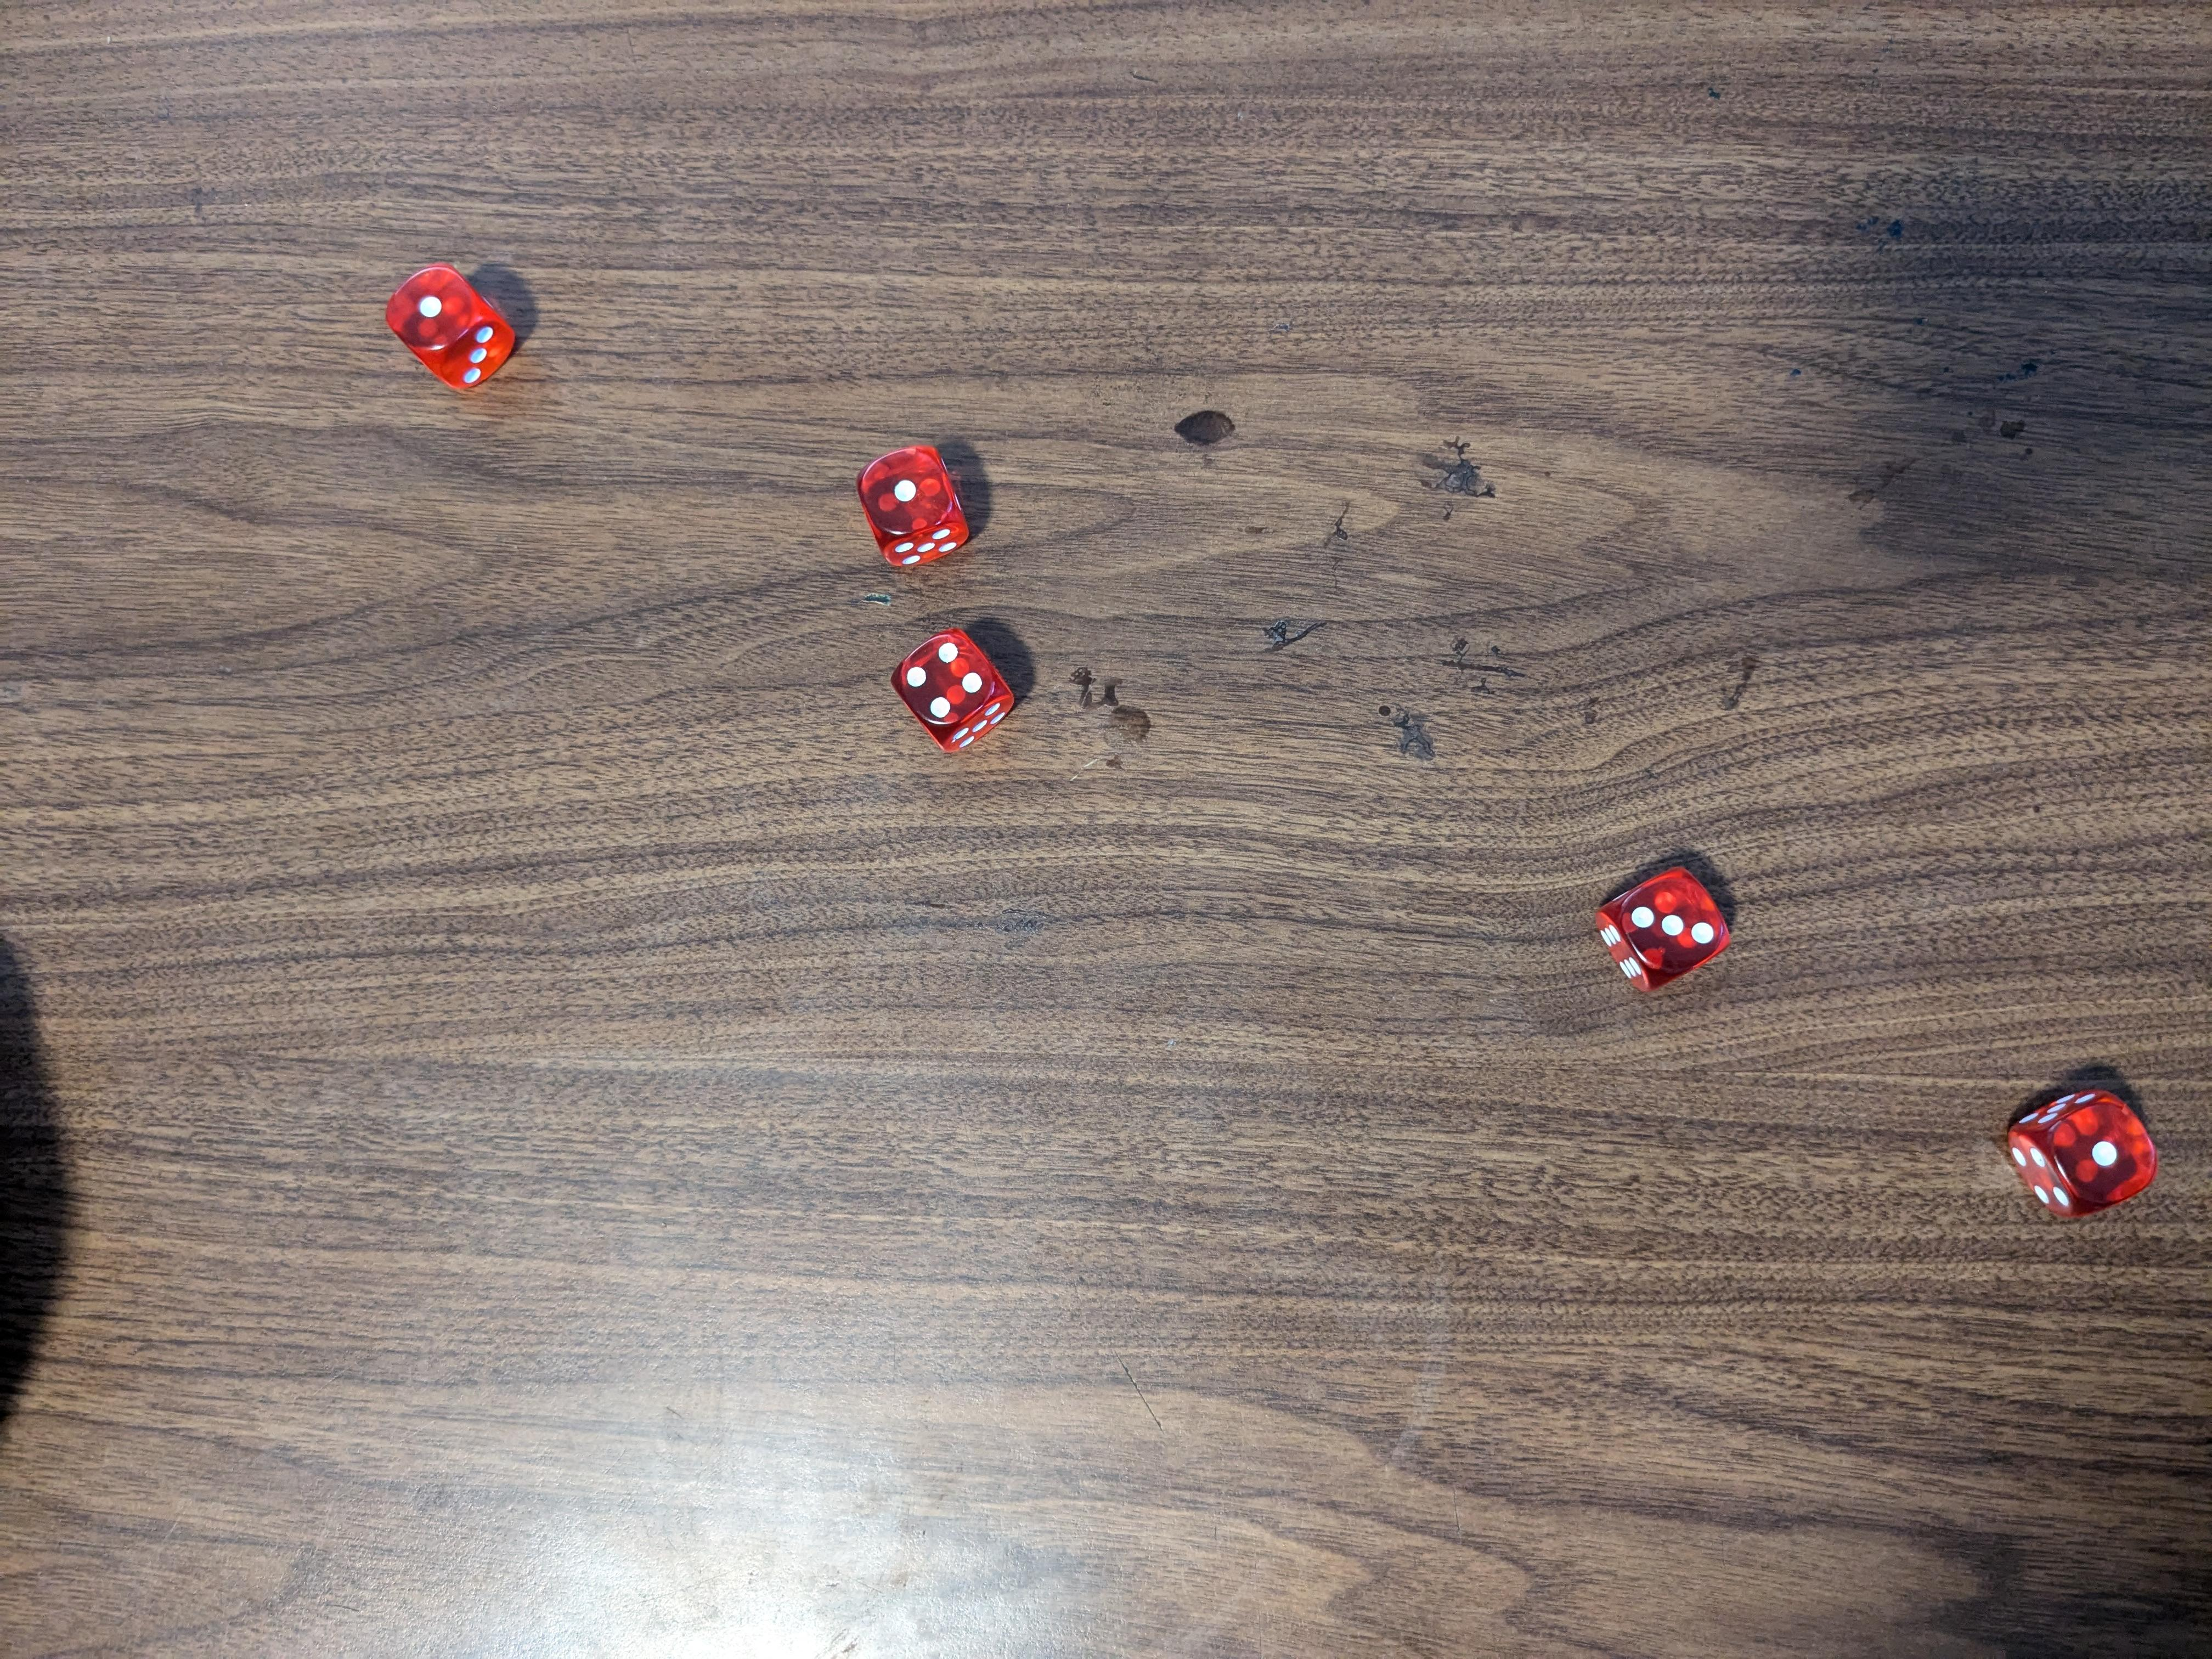four: (890, 631, 1019, 758)
one: (2010, 1091, 2161, 1220), (381, 258, 519, 396), (859, 441, 975, 575)
three: (1599, 863, 1738, 997)
